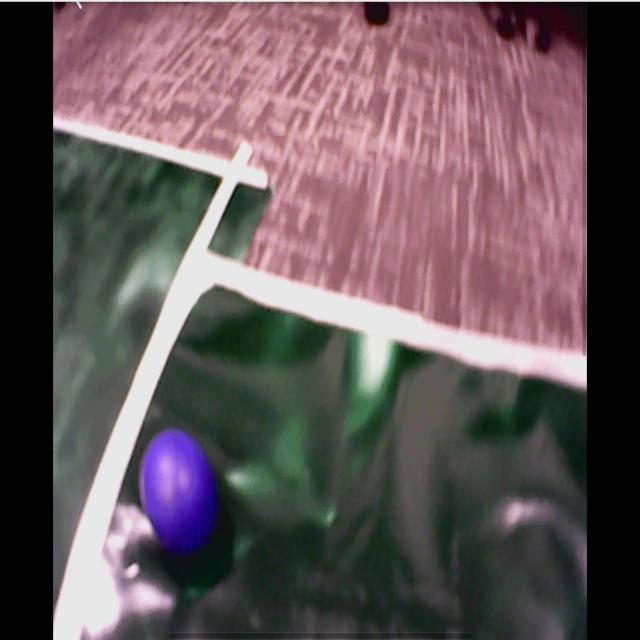ball: (141, 429, 216, 555)
